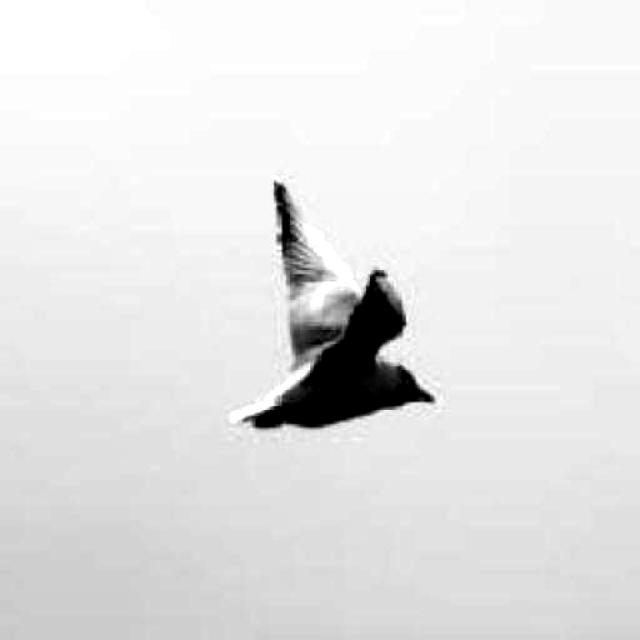airplane: (234, 181, 438, 438)
